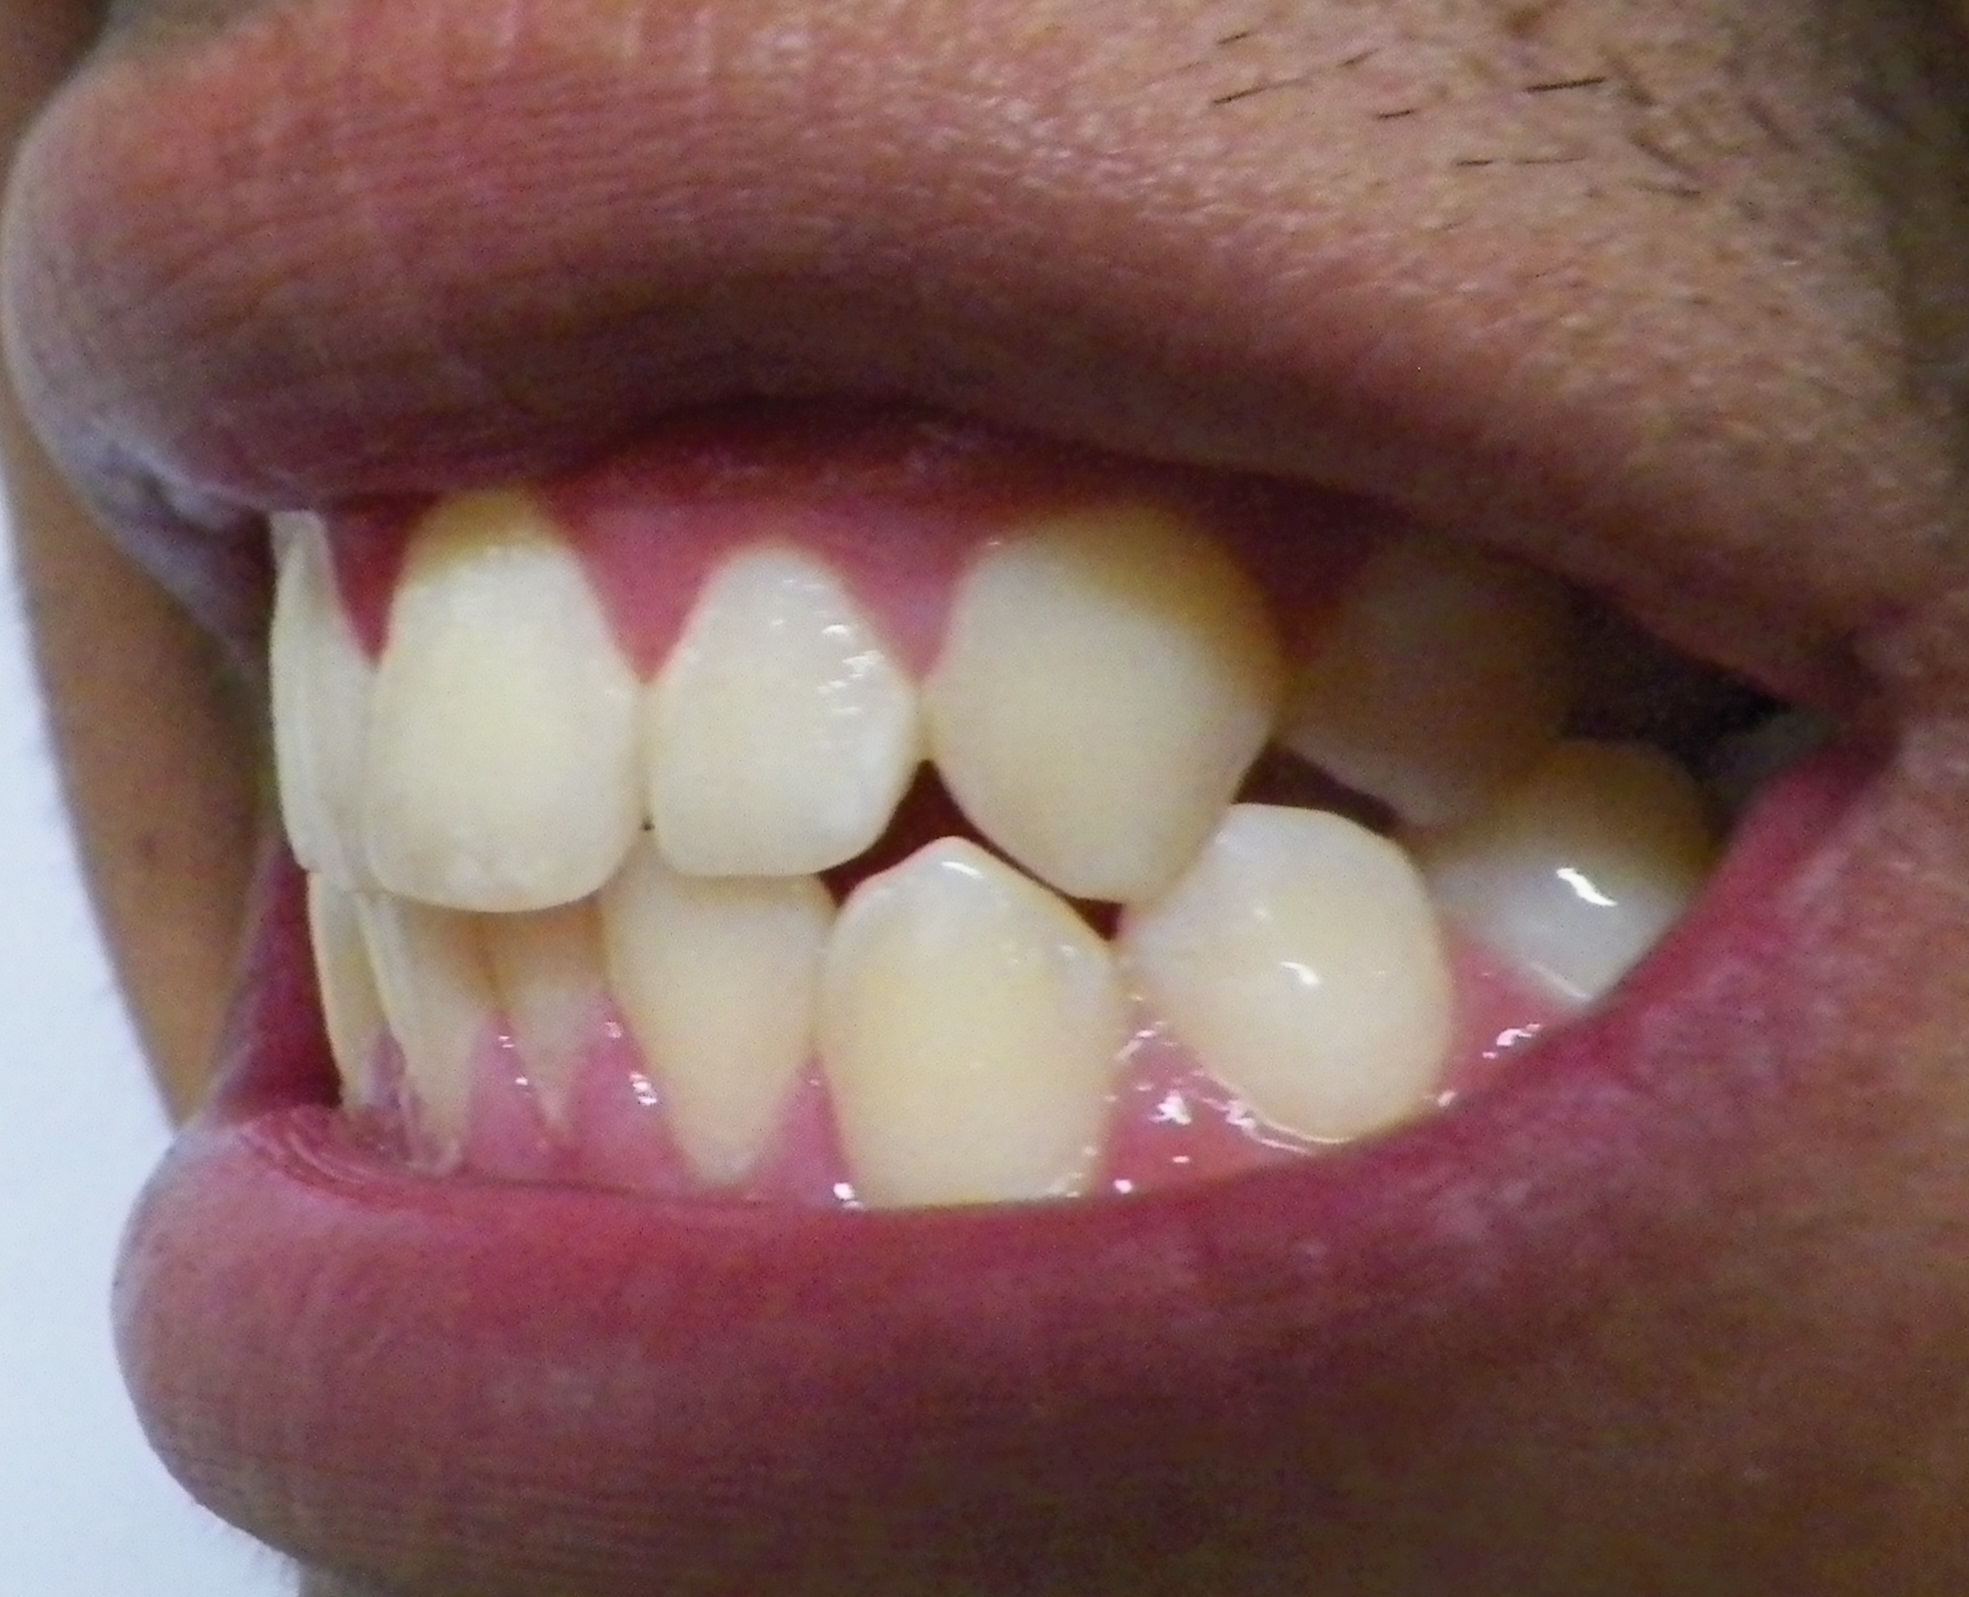boca: (275, 412, 1757, 1167)
